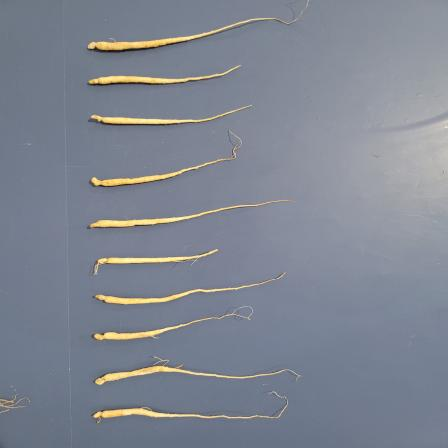Ginseng: (85, 0, 310, 56), (87, 128, 243, 188), (82, 199, 296, 232), (92, 271, 287, 306), (87, 306, 255, 342), (88, 391, 292, 420), (90, 365, 302, 387), (92, 247, 221, 277), (84, 64, 245, 87), (88, 104, 254, 125)
head: (90, 113, 110, 124), (89, 175, 107, 187), (86, 219, 106, 229), (87, 40, 104, 51), (92, 331, 110, 341), (93, 375, 109, 386), (94, 294, 111, 303), (87, 77, 105, 85), (96, 256, 114, 264), (92, 410, 108, 419)
